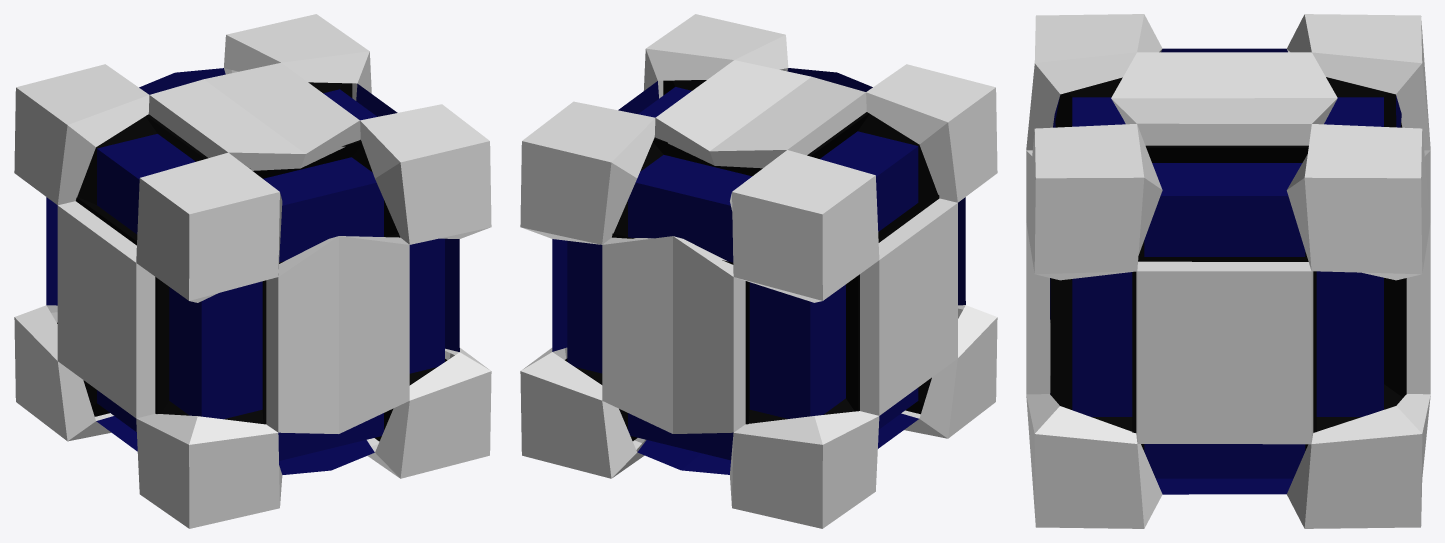
The model's file is Exploder.fbx.
3 renders of one model, left to right at view 1: azimuth 30°, elevation 25°; view 2: azimuth 150°, elevation 25°; view 3: azimuth 270°, elevation 25°, orthographic. The views are drawn at different scales.
Parts seen in each view (by area): view 1: Cube; view 2: Cube; view 3: Cube.
Boxes of the visible parts, x1,y1,x2,y2 form: Cube: (14, 14, 491, 528); Cube: (520, 14, 997, 528); Cube: (1026, 14, 1430, 528).
Size of the model in its own units: 454 by 454 by 454.
